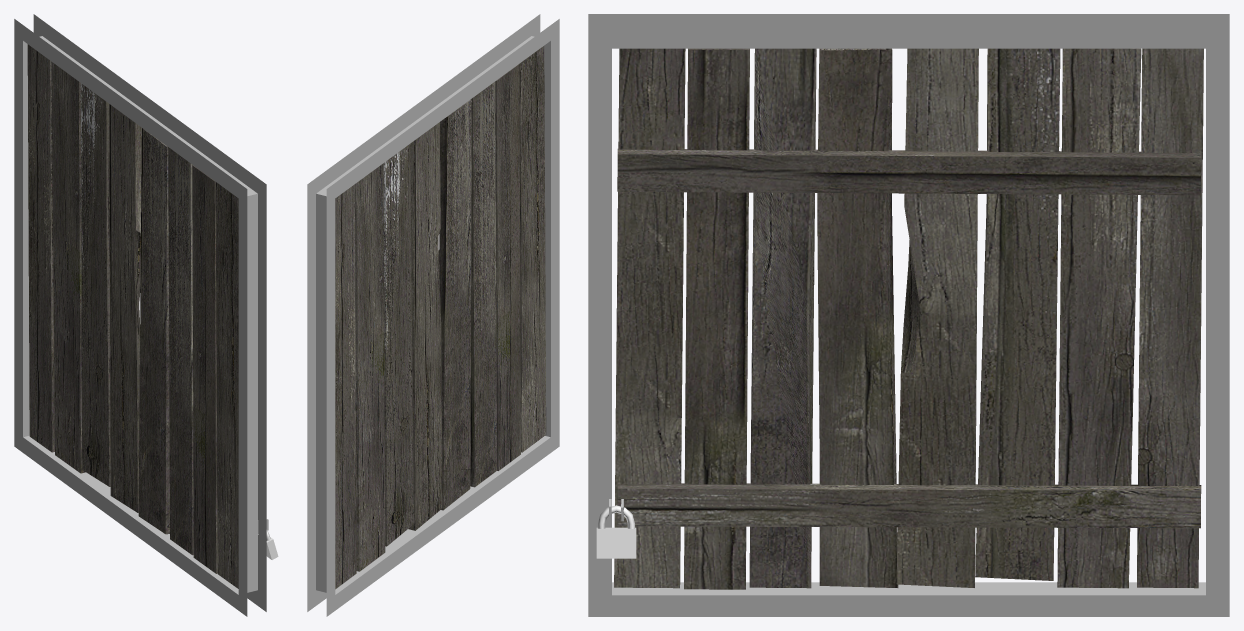
The model's file is Door_Tonel.fbx.
The picture shows the model from 3 angles, left to right: view 1: azimuth 30°, elevation 25°; view 2: azimuth 150°, elevation 25°; view 3: azimuth 270°, elevation 25°; orthographic projection. The views are drawn at different scales.
Visible parts, largest first — view 1: Door, Door_Tonel; view 2: Door, Door_Tonel; view 3: Door, Door_Tonel, Padlock.
Part boxes in pixels (box(x1,y1,x2,y2)): Door: box(27, 44, 238, 588); Door_Tonel: box(14, 14, 268, 616); Door: box(335, 46, 546, 589); Door_Tonel: box(307, 14, 559, 616); Door: box(614, 48, 1203, 589); Door_Tonel: box(588, 14, 1229, 616); Padlock: box(596, 505, 636, 558).
Size of the model in its own units: 9.9 by 118 by 116.
